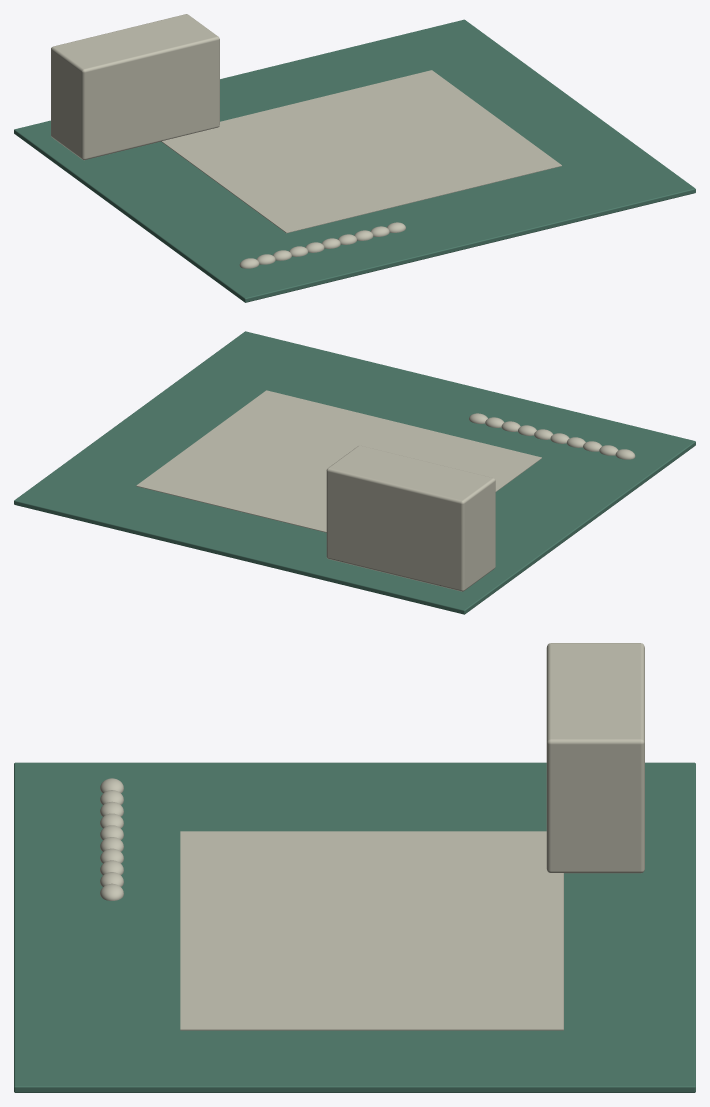
The model's file is watermill-landscape-base.glb.
3 renders of one model, top to bottom at view 1: azimuth 30°, elevation 25°; view 2: azimuth 150°, elevation 25°; view 3: azimuth 270°, elevation 25°, orthographic. The views are drawn at different scales.
Parts seen in each view (by area): view 1: watermill-landscape-base; view 2: watermill-landscape-base; view 3: watermill-landscape-base.
Boxes of the visible parts, left/top/right/bottom form: watermill-landscape-base: left=14, top=14, right=695, bottom=302; watermill-landscape-base: left=14, top=331, right=695, bottom=614; watermill-landscape-base: left=14, top=643, right=695, bottom=1092.
Bounding box in the file's own units: 18 × 3.65 × 16.
